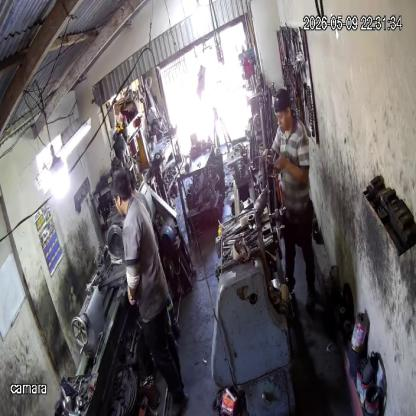sin_lentes: (273, 113, 288, 124)
